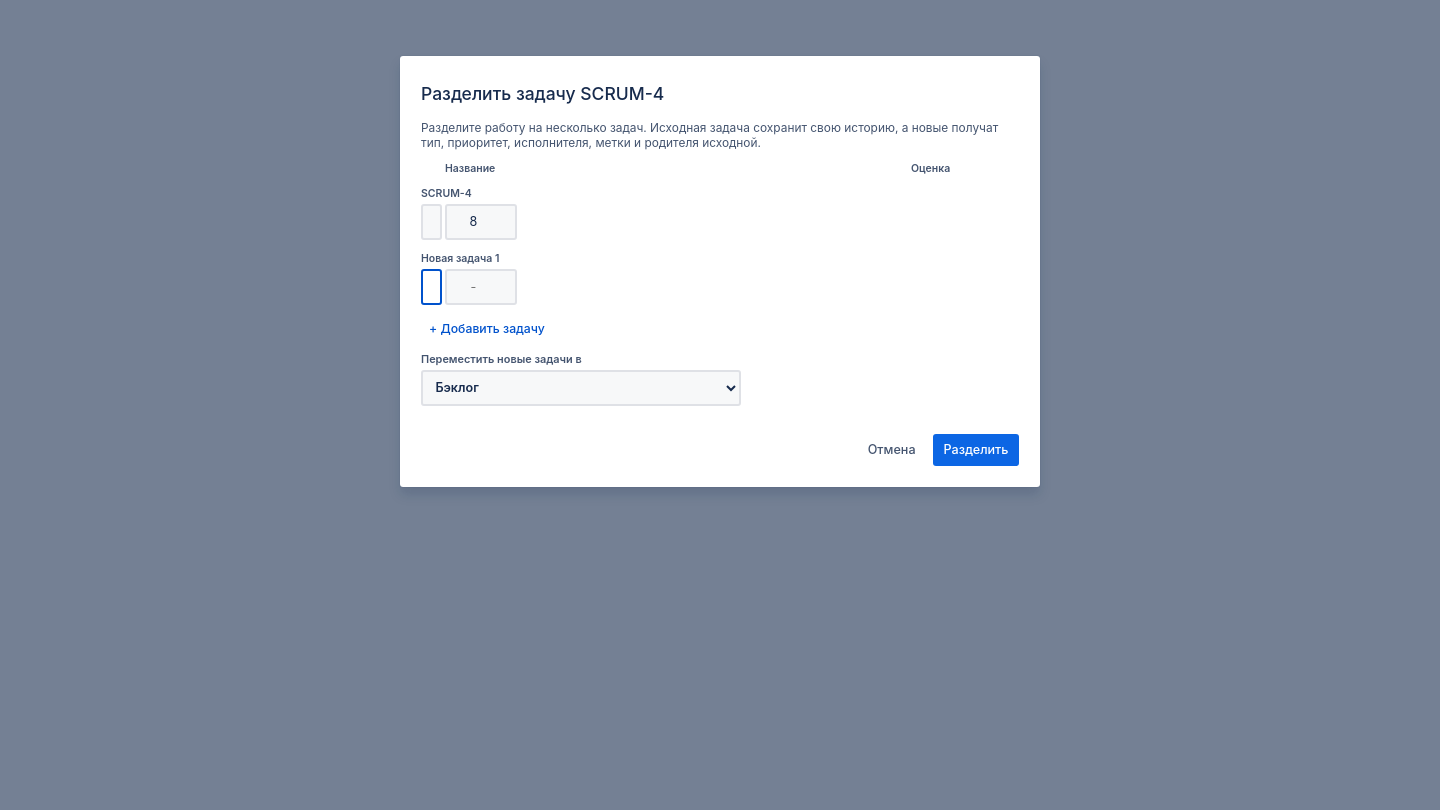
it: requires a summary for every new issue
The width and height of the screenshot is (1440, 810).
Click the button "Разделить" at (976, 450), box [933,434,1019,466]
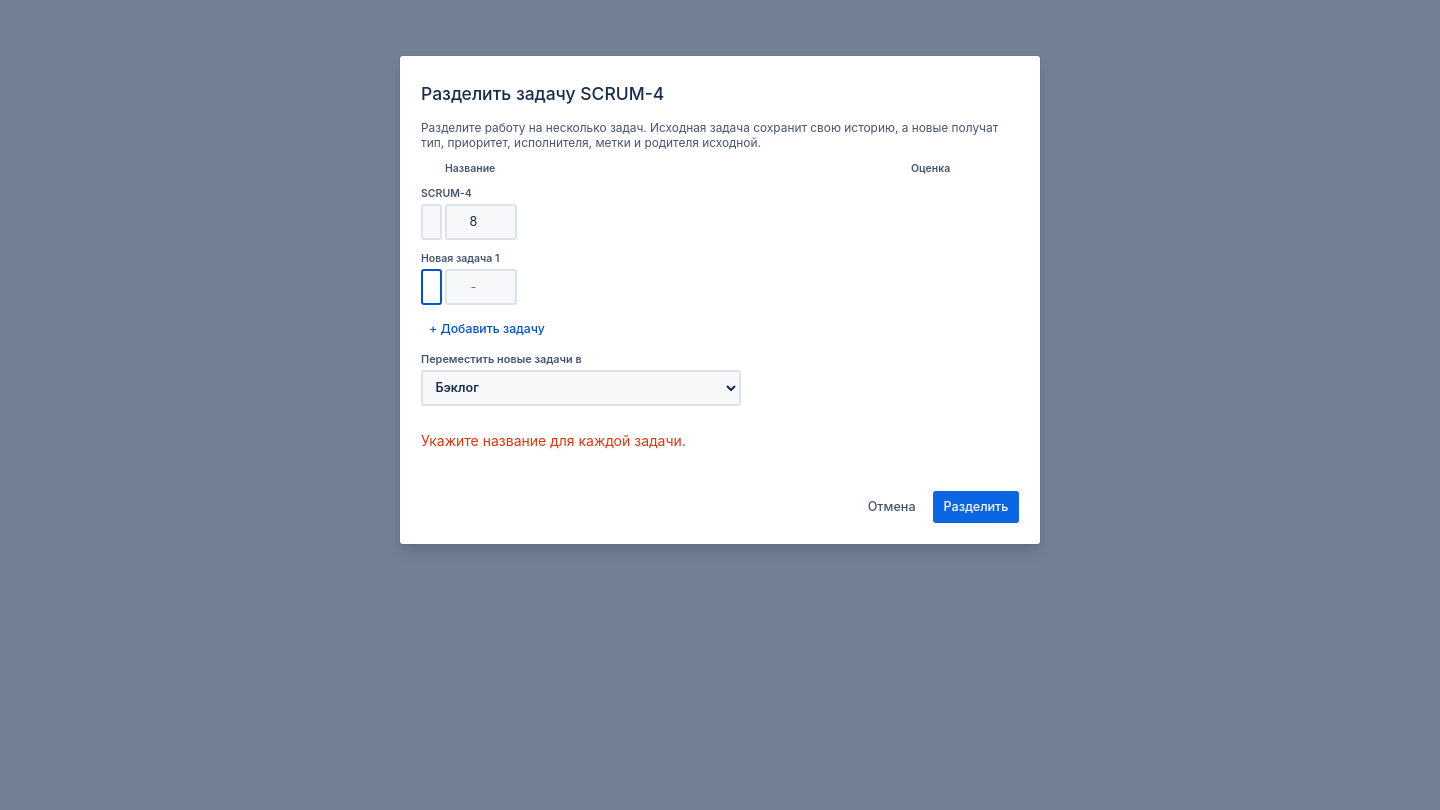
Now the message "Укажите название для каждой задачи." is shown, box [421,432,686,448]
